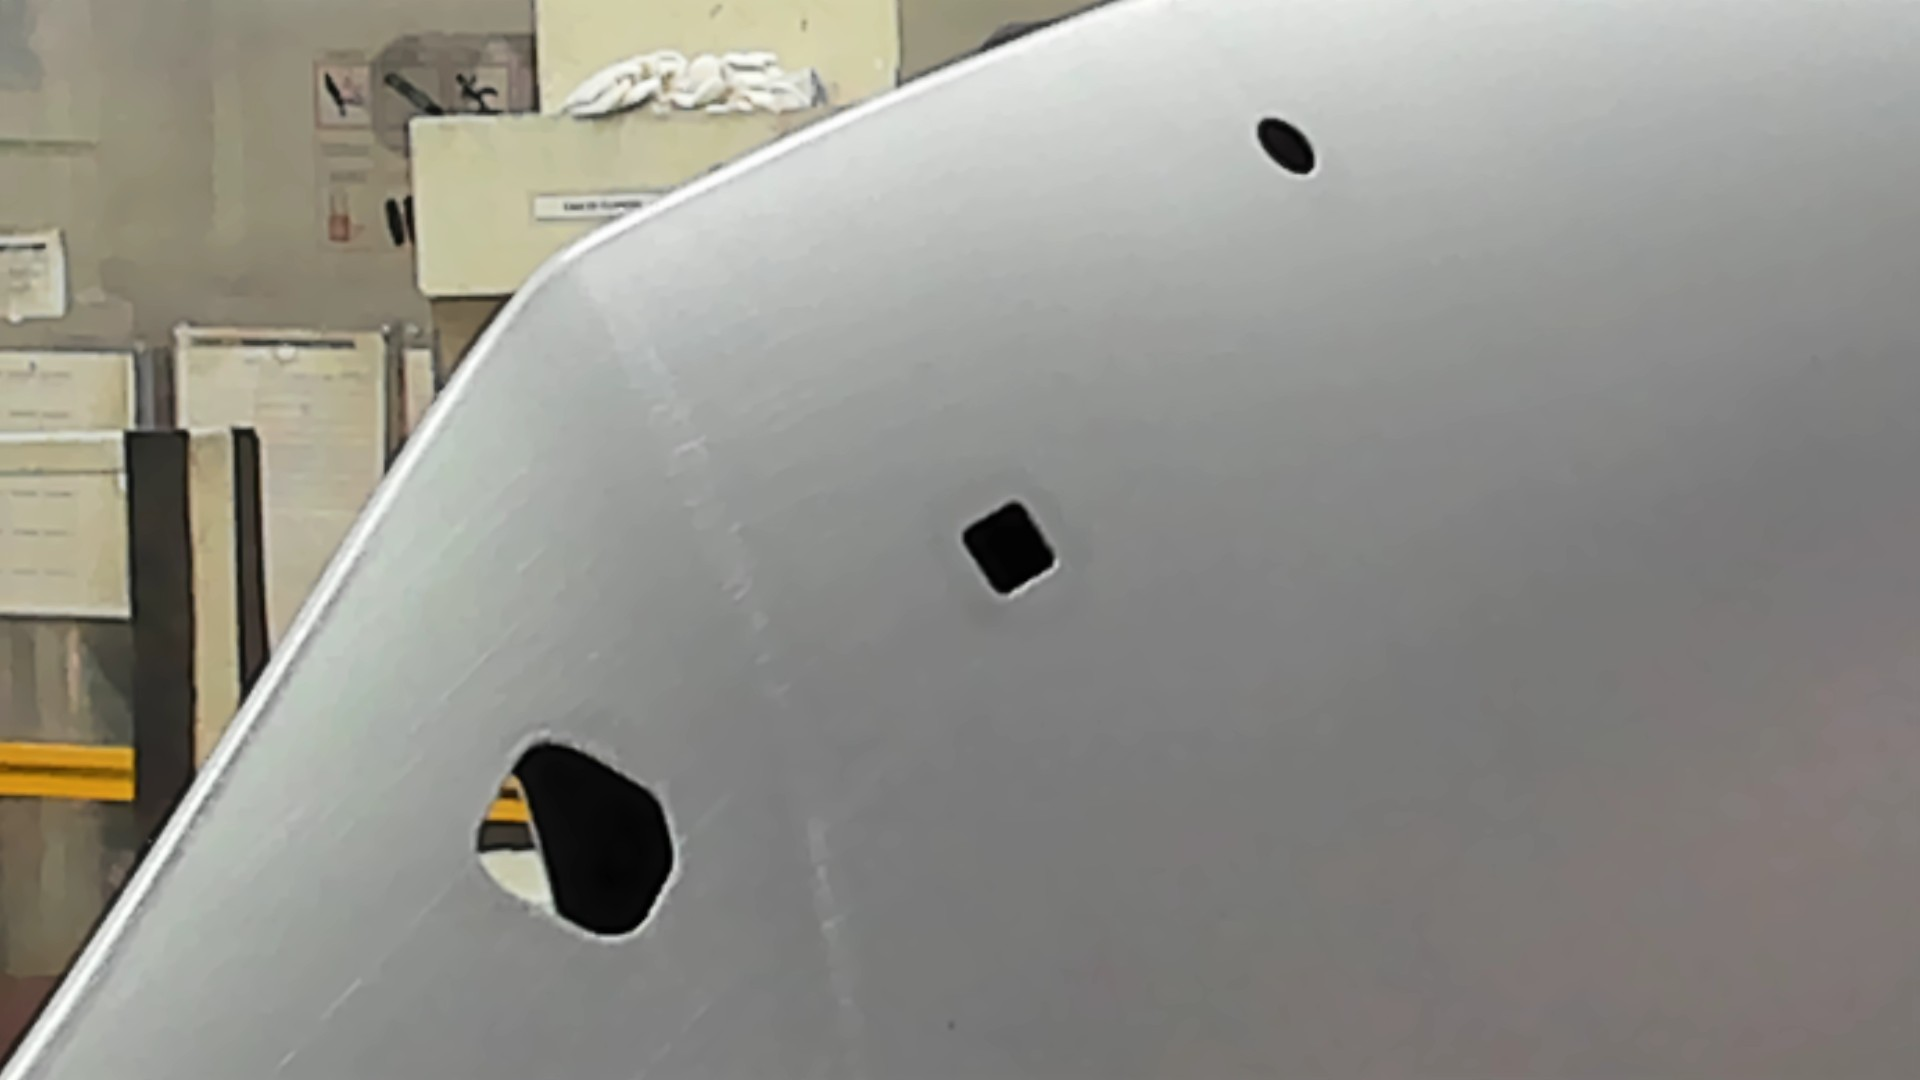chico: (1251, 111, 1321, 178)
grande: (465, 732, 682, 947)
mediano: (952, 492, 1065, 607)
